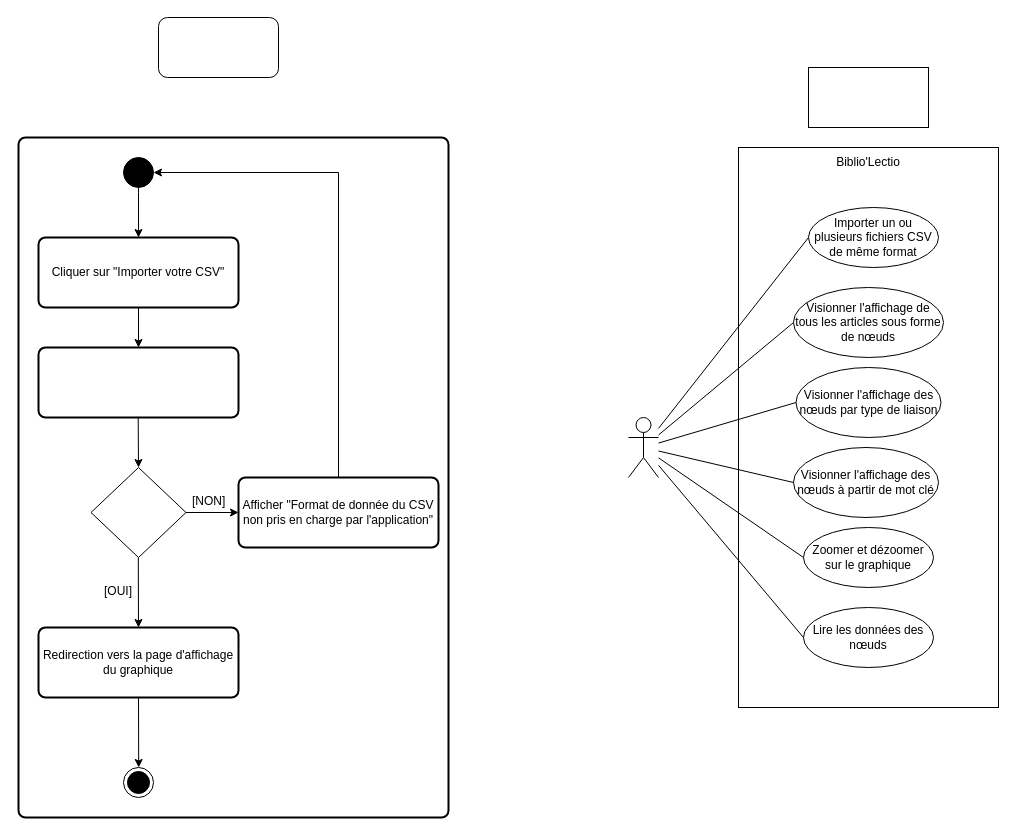
The diagram is 1016 pixels wide and 836 high, and some of its shapes have lost their labels. The shapes that lost their labels are listed below. From the top down, each one's centre as x and y in pixels, then its label:
[218,47]: Diagramme d'activité "Importer un CSV"
[868,97]: Diagramme de cas d'utilisation (V1)
[138,382]: Vérification du format des données
[643,447]: Chercheur
[138,512]: Format valide ?
